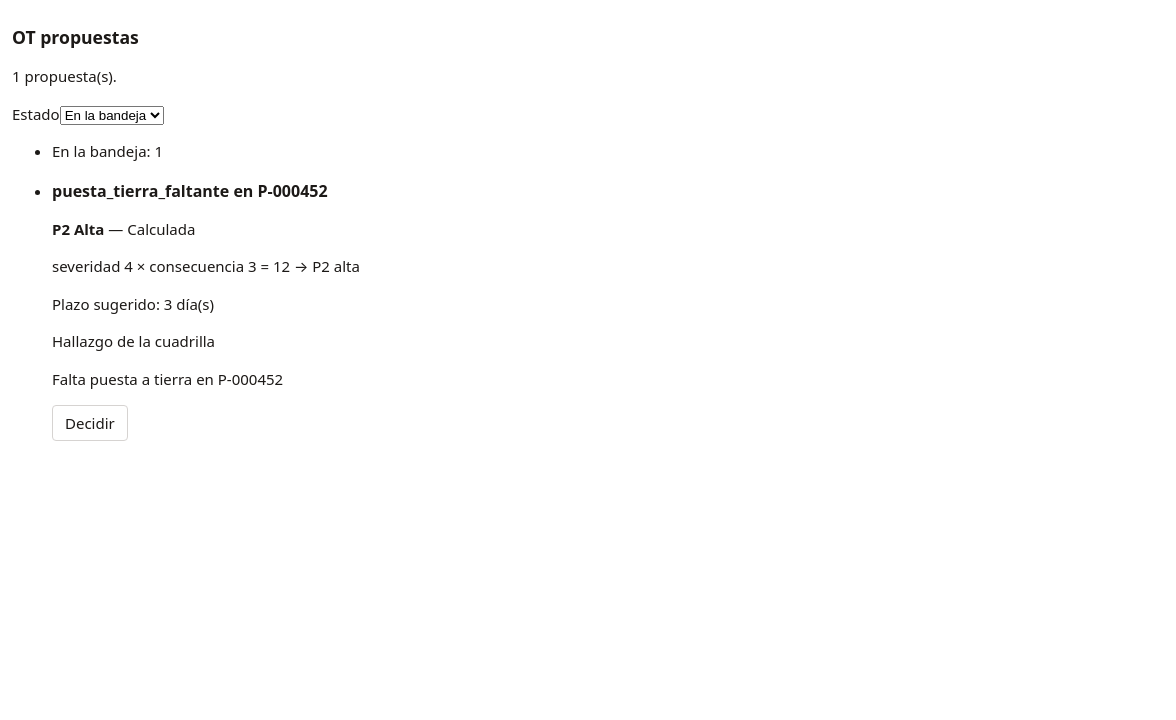
Test: las tres decisiones › aprobar manda la prioridad que el supervisor eligió y nada más
This screenshot has width=1176, height=720.
Later steps or results of the test are not shown.
Click the button "Decidir".
click(90, 423)  # box [52,405,128,441]
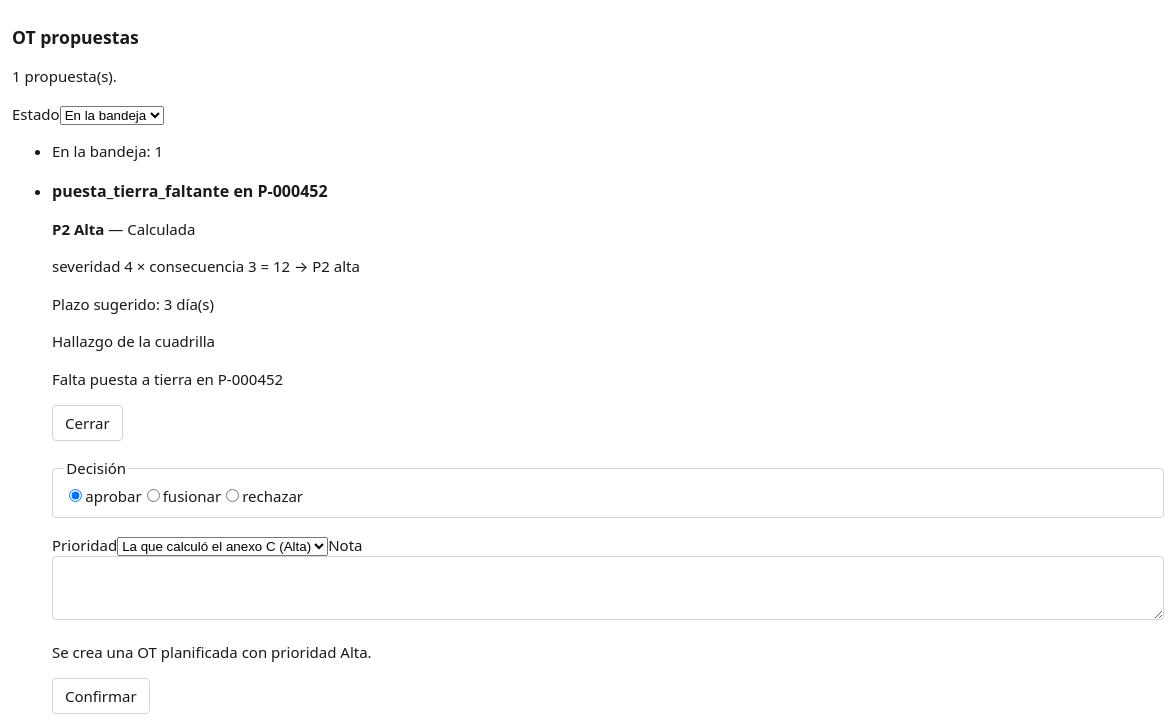
Select "Crítica" in the dropdown labelled "Prioridad" at (223, 546), box [117,537,328,556]
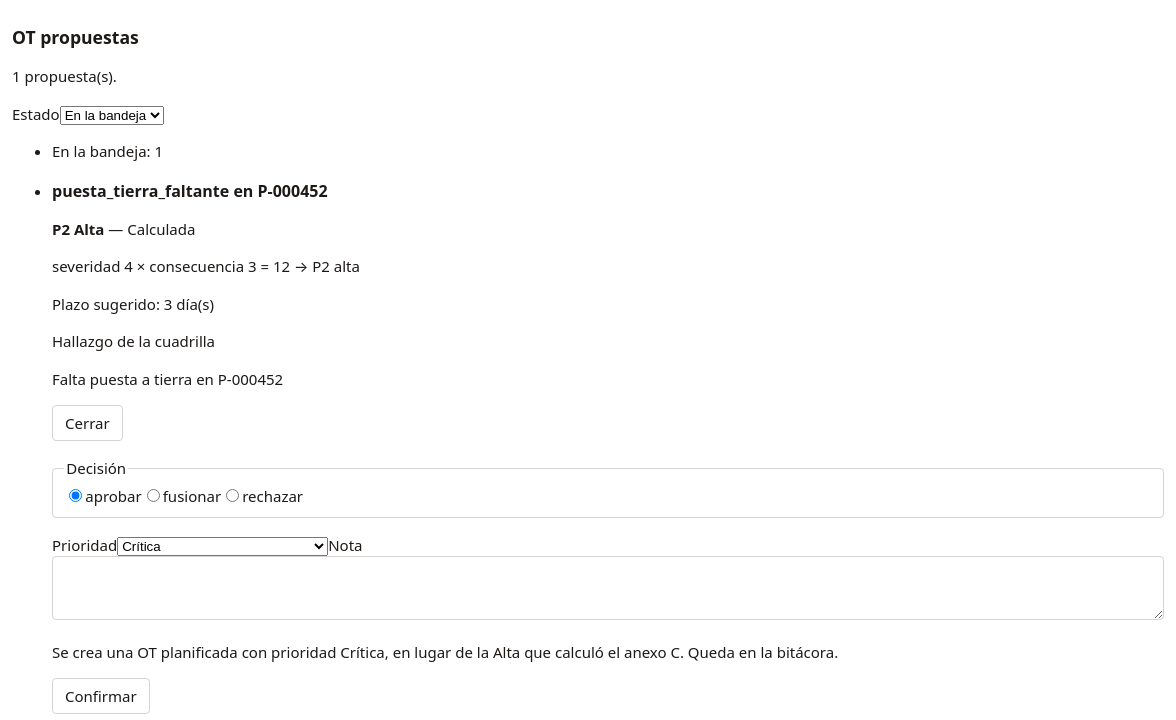
Expected: the text "en lugar de la Alta" is shown, [52,642,838,662]
